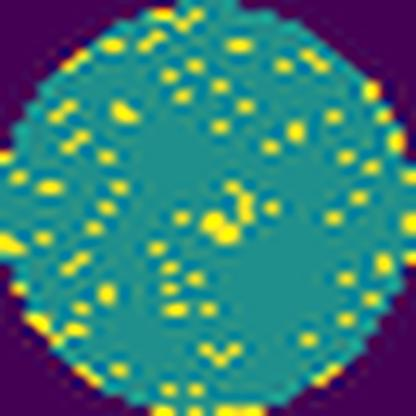Center: (192, 172, 260, 244)
